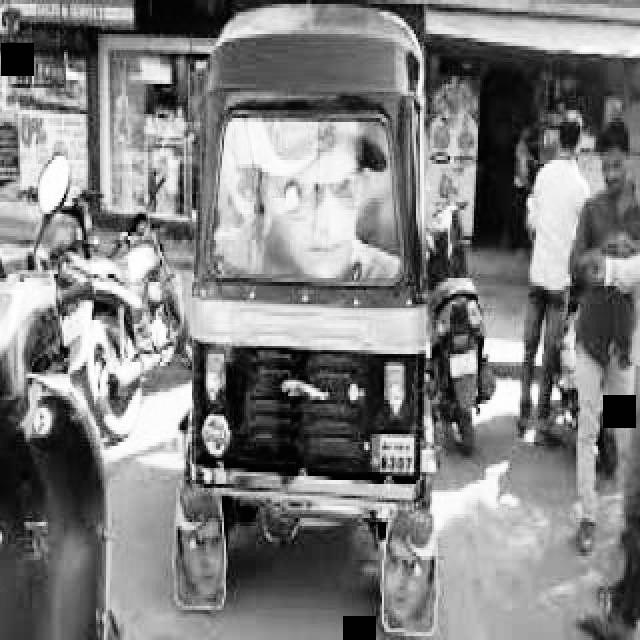Auto-Rickshaw: (190, 12, 448, 634)
